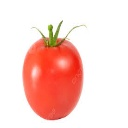tomato: (23, 37, 83, 120)
